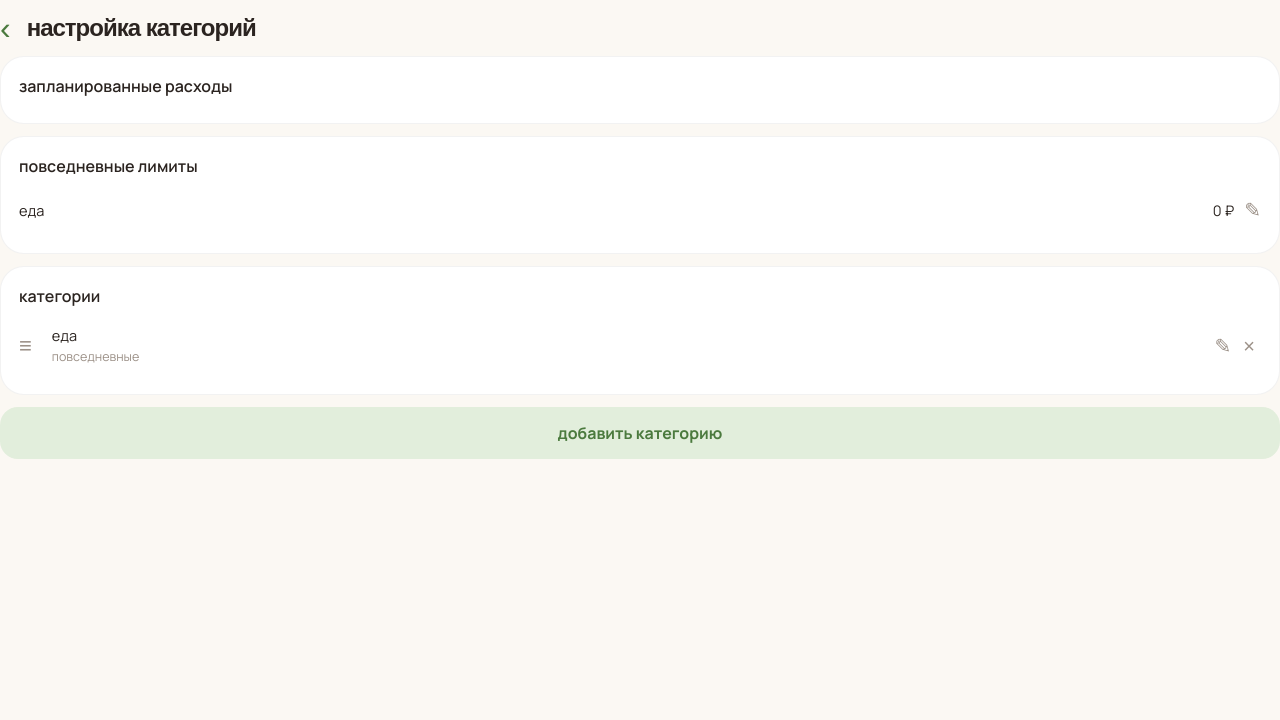
Scenario: category settings UI › uses a concise category deletion confirmation
Click the button named "удалить категорию еда" at [1249, 346], box x1=1237 y1=332 x2=1261 y2=360
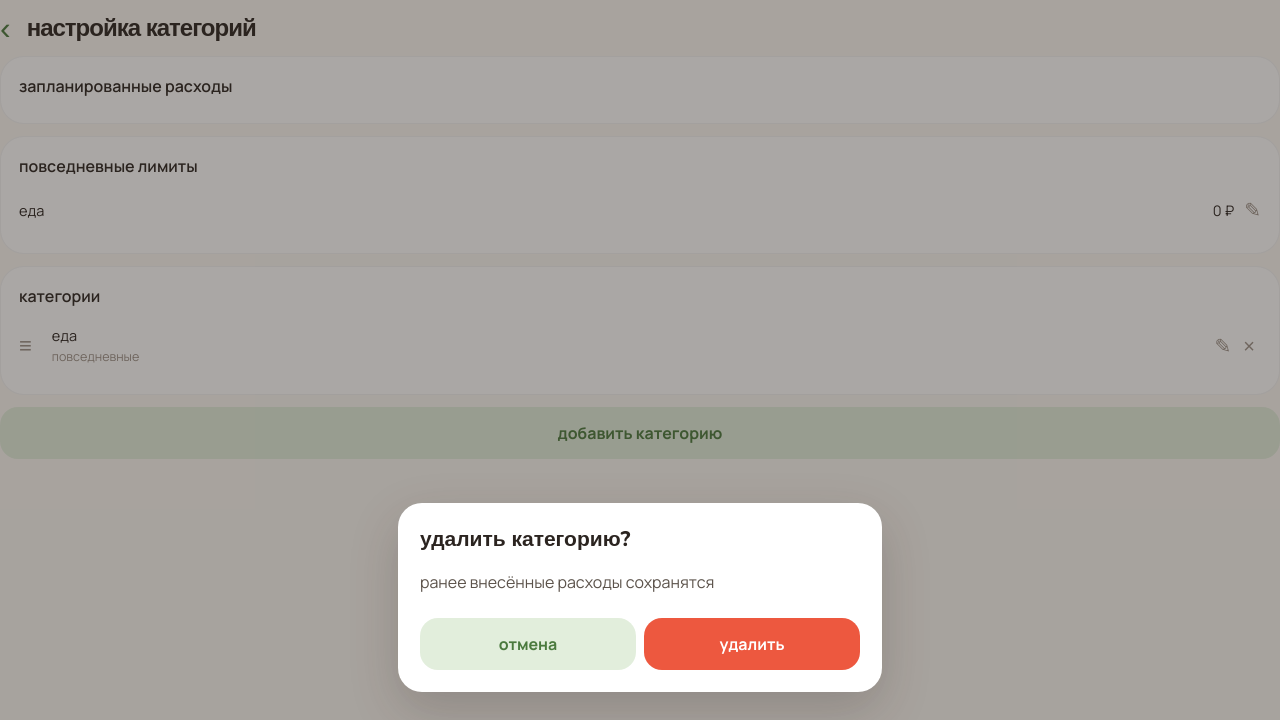
Expected: the dialog "удалить категорию?" is shown, x1=398 y1=503 x2=882 y2=692
Expected: the text "ранее внесённые расходы сохранятся" is shown, x1=420 y1=571 x2=714 y2=593
